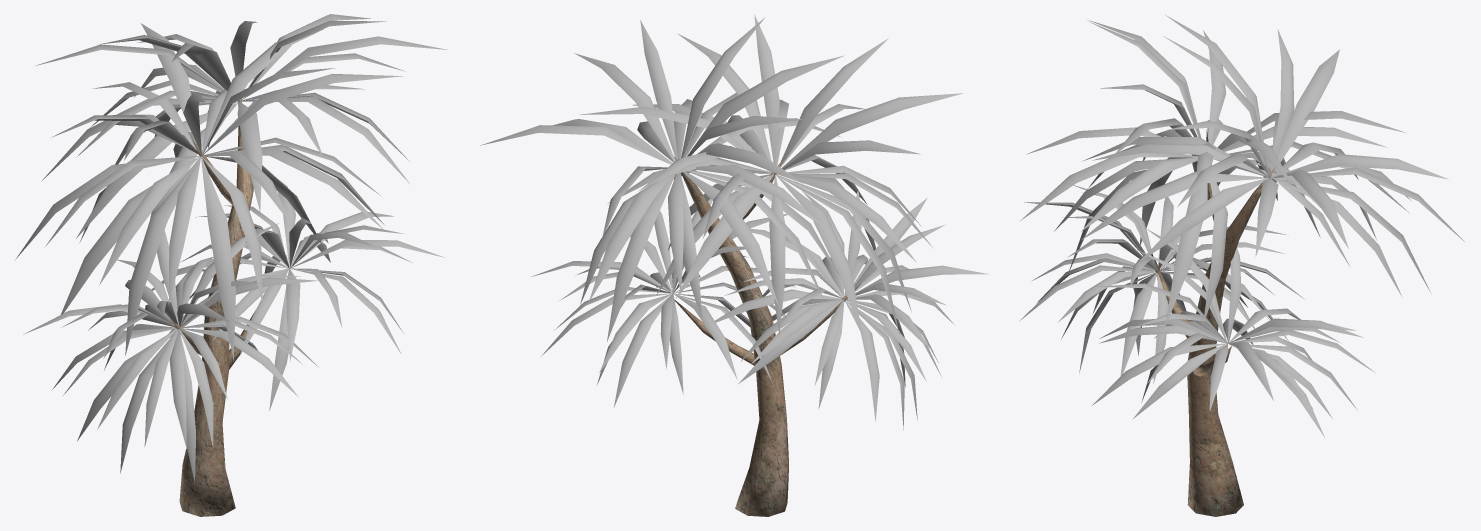
File: dra_2s.fbx
The picture shows the model from 3 angles, left to right: view 1: azimuth 30°, elevation 25°; view 2: azimuth 150°, elevation 25°; view 3: azimuth 270°, elevation 25°; orthographic projection. The views are drawn at different scales.
Visible parts, largest first — view 1: dra; view 2: dra; view 3: dra.
Part boxes in pixels (<box>): dra: <box>15,14,447,516</box>; dra: <box>480,14,988,516</box>; dra: <box>1019,15,1464,516</box>.
Bounding box in the file's own units: 2269 × 2584 × 2186.
